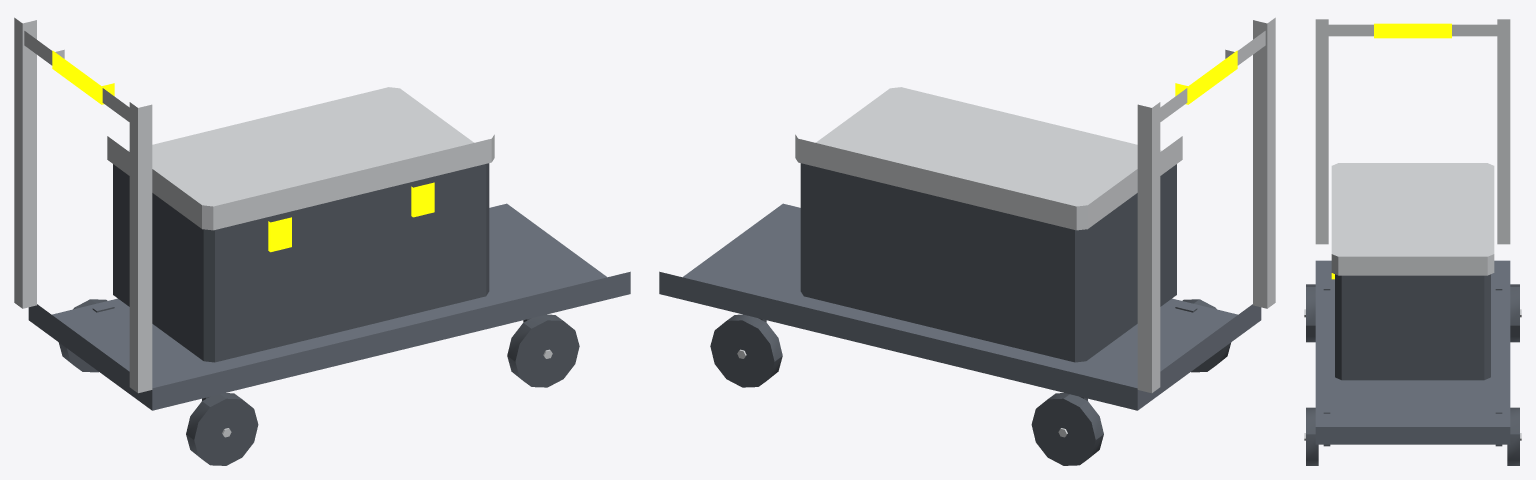
File: ext_service_hand_cart_04.glb
The picture shows the model from 3 angles, left to right: view 1: azimuth 30°, elevation 25°; view 2: azimuth 150°, elevation 25°; view 3: azimuth 270°, elevation 25°; orthographic projection. The views are drawn at different scales.
Visible parts, largest first — view 1: Crate, Crate_Lid, Deck, Handle, Wheels, Latches, Grip; view 2: Crate, Crate_Lid, Deck, Handle, Wheels, Grip; view 3: Crate_Lid, Deck, Crate, Handle, Wheels, Grip.
Part boxes in pixels (x1,y1,x2,y2): Crate: (113,163,489,362); Crate_Lid: (107,87,494,230); Deck: (28,203,630,410); Handle: (14,17,152,393); Wheels: (58,299,579,465); Latches: (268,182,434,252); Grip: (52,50,114,104); Crate: (800,163,1176,362); Crate_Lid: (795,87,1182,230); Deck: (659,203,1261,410); Handle: (1137,17,1275,393); Wheels: (710,299,1231,465); Grip: (1175,50,1237,104); Crate_Lid: (1331,163,1494,275); Deck: (1315,260,1510,444); Crate: (1335,274,1490,380); Handle: (1315,19,1510,244); Wheels: (1306,284,1519,465); Grip: (1374,23,1451,38).
Bounding box in the file's own units: 1.38 × 1 × 0.67.
